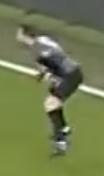goalkeeper: (14, 16, 92, 165)
